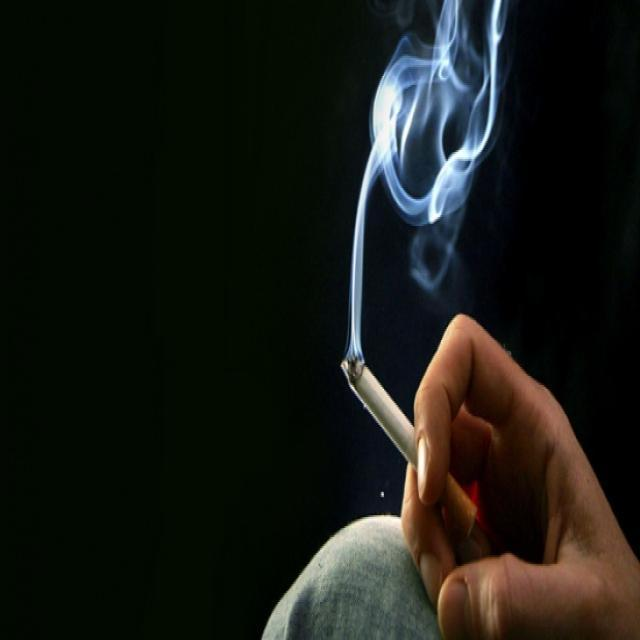rokok: (334, 346, 500, 530)
